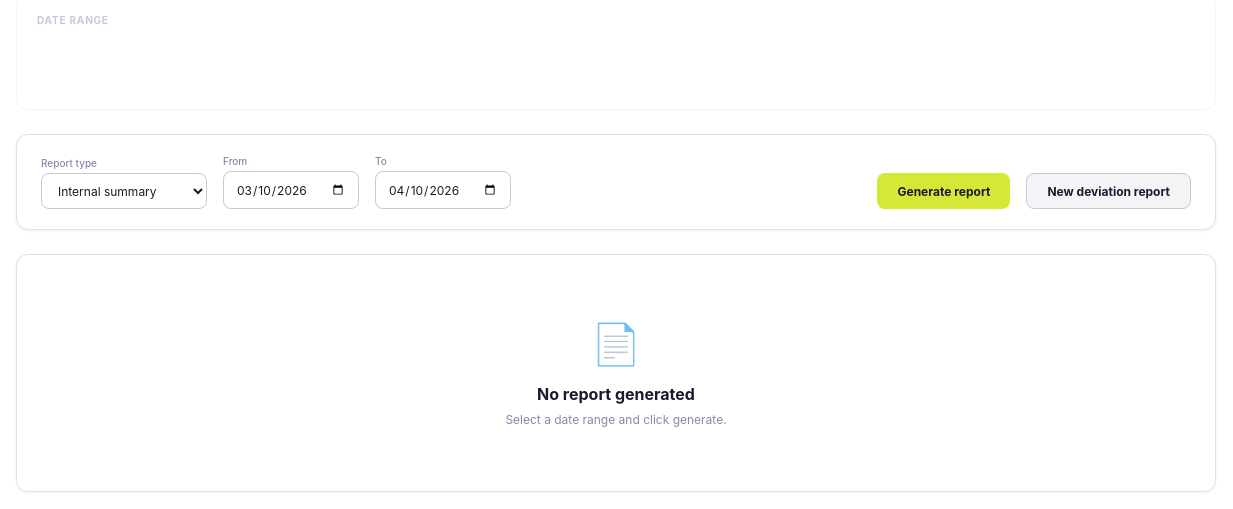
Test: ReportsView › loadReport — UI states › shows SummaryReport (and not InspectionReport) after a successful summary load
This screenshot has width=1233, height=509.
What coordinates should you click on to do the following:
click the button with class "btn-generate"
I would click on:
 (944, 191)
Its box is [878,173,1010,209].
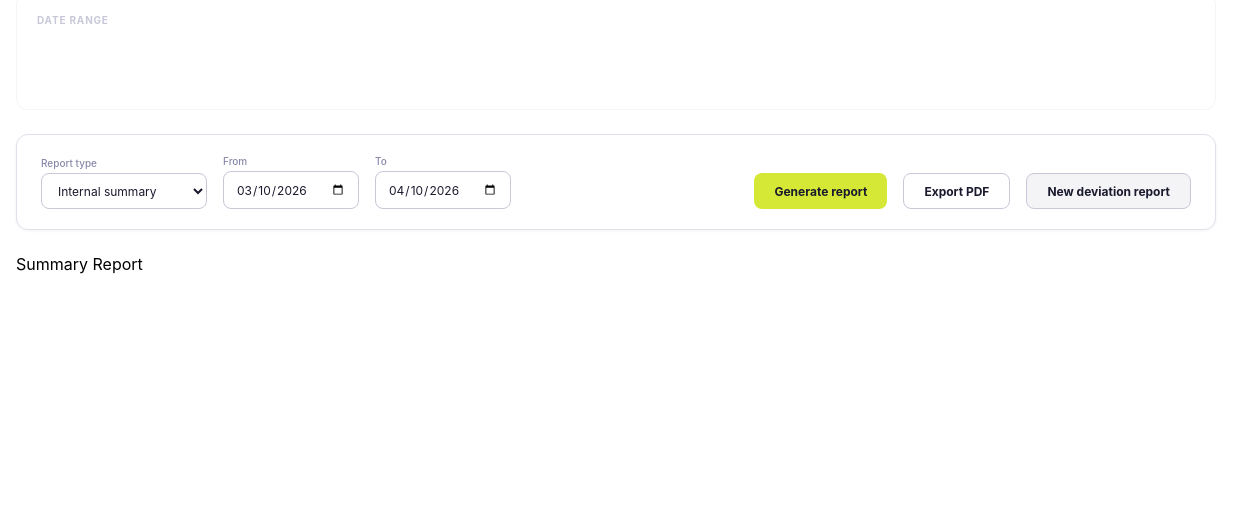
Expected: the text "Summary Report" is shown, [16,254,143,274]
